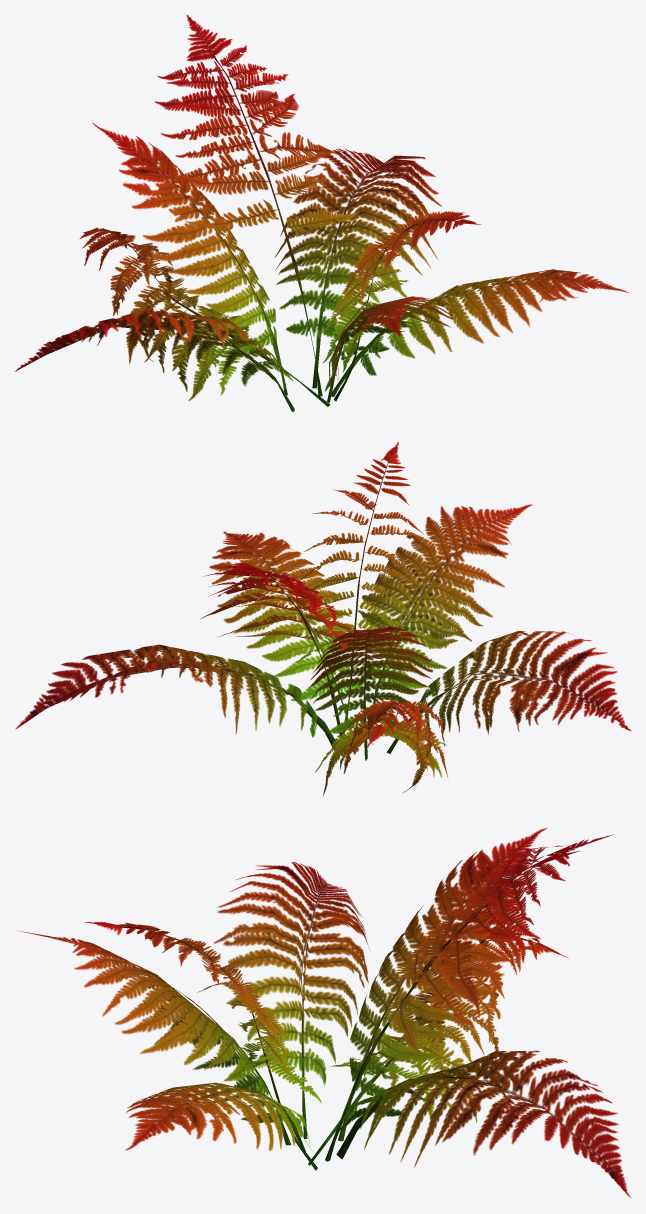
The model's file is samambaia.gltf.
3 views of the same model, one above another, from view 1: azimuth 30°, elevation 25°; view 2: azimuth 150°, elevation 25°; view 3: azimuth 270°, elevation 25° (orthographic). The views are drawn at different scales.
Parts seen in each view (by area): view 1: samambaia; view 2: samambaia; view 3: samambaia.
Boxes of the visible parts, x1,y1,x2,y2 form: samambaia: [15, 15, 628, 411]; samambaia: [15, 441, 631, 795]; samambaia: [17, 828, 630, 1197].
Bounding box in the file's own units: 1.12 × 0.6 × 1.02.
1 material, 1 textured.
